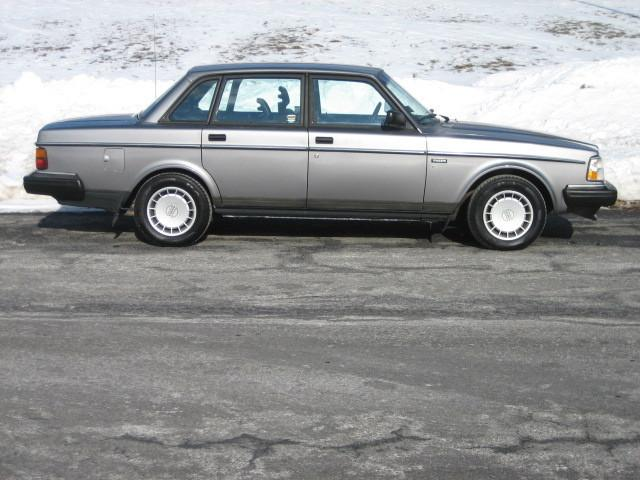Sedan: (22, 61, 617, 250)
